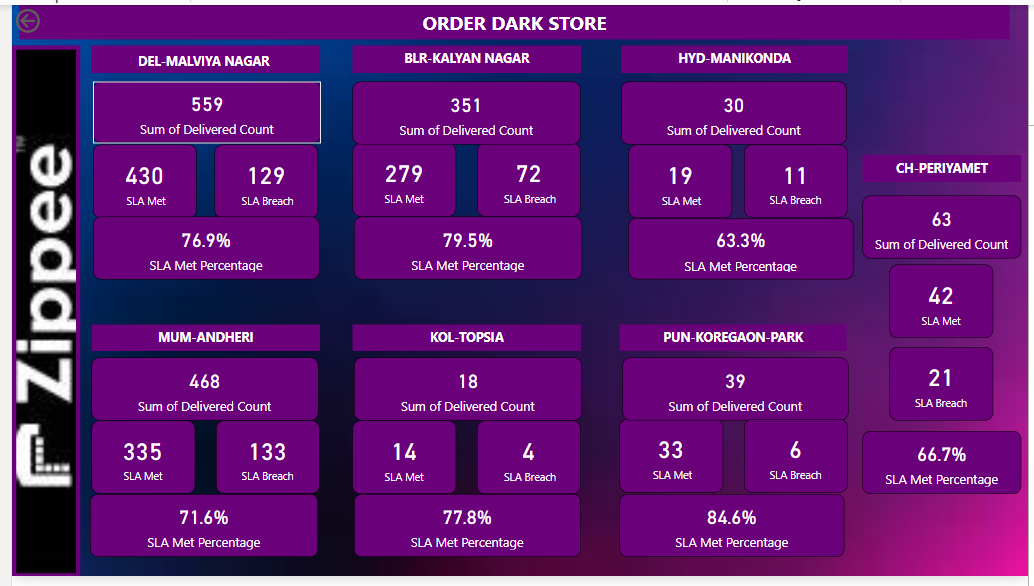

The page's visual inventory and layout, read from the dashboard file:
{"tool":"powerbi","page":{"name":"ZIPPEE SLA","canvas":[1280,720],"ordinal":0},"visuals":[{"type":"image","box":[0,0,56.7,721.9],"z":0},{"type":"textbox","title":"DARK STORE DATA","box":[19.1,0,1231.1,31.8],"z":1000},{"type":"textbox","title":"DEL-MALVIYA NAGAR","box":[98.3,32.1,287.2,35.9],"z":2000},{"type":"card","fields":{"Values":["Sum(SLA MET.Delivered Count)"]},"box":[105.7,69.8,273.6,88.7],"z":3000},{"type":"textbox","title":"BLR- KALYAN NAGAR","box":[448.1,36.5,284.6,34.6],"z":4000},{"type":"textbox","title":"HYD- MANIKONDA","box":[85,360.9,287.2,35.9],"z":5000},{"type":"textbox","title":"KOL- TOPSIA","box":[453.8,375,284.6,34.6],"z":6000},{"type":"textbox","title":"MUM- ANDHERI","box":[778.6,362.8,287.2,35.9],"z":7000},{"type":"textbox","title":"PUN-KOREGAON PARK","box":[769.2,32.7,286.5,34.6],"z":8000},{"type":"card","fields":{"Values":["Sum(SLA MET.Delivered Count)"]},"box":[449.1,69.8,273.6,86.8],"z":9000},{"type":"card","fields":{"Values":["Sum(SLA MET.Delivered Count)"]},"box":[778.8,67.3,273.1,86.5],"z":10000},{"type":"card","fields":{"Values":["Sum(SLA MET.Delivered Count)"]},"box":[778.8,398.1,284.6,84.6],"z":11000},{"type":"card","fields":{"Values":["Sum(SLA MET.Delivered Count)"]},"box":[462.3,415.1,269.8,84.9],"z":12000},{"type":"card","fields":{"Values":["Sum(SLA MET.Delivered Count)"]},"box":[88.5,400,280.8,84.6],"z":13000},{"type":"card","fields":{"Values":["Sum(SLA MET.SLA Met)"]},"box":[105,168,131.8,80.2],"z":14000},{"type":"card","fields":{"Values":["Sum(SLA MET.SLA Met)"]},"box":[448.1,171.2,130.8,92.3],"z":15000},{"type":"card","fields":{"Values":["Sum(SLA MET.SLA Met)"]},"box":[88.7,492.5,130.2,92.5],"z":16000},{"type":"card","fields":{"Values":["Sum(SLA MET.SLA Met)"]},"box":[461.5,500,130.8,92.3],"z":17000},{"type":"card","fields":{"Values":["Sum(SLA MET.SLA Met)"]},"box":[777.4,494.4,130.2,92.5],"z":18000},{"type":"card","fields":{"Values":["Sum(SLA MET.SLA Met)"]},"box":[777.4,162.3,130.2,92.5],"z":19000},{"type":"card","fields":{"Values":["Sum(SLA MET.SLA Breach)"]},"box":[249.7,165.4,128.8,81.1],"z":20000},{"type":"card","fields":{"Values":["Sum(SLA MET.SLA Breach)"]},"box":[590.4,171.2,130.8,92.3],"z":21000},{"type":"card","fields":{"Values":["Sum(SLA MET.SLA Breach)"]},"box":[236.5,492.3,130.8,92.3],"z":22000},{"type":"card","fields":{"Values":["Sum(SLA MET.SLA Breach)"]},"box":[603.8,500,128.8,92.3],"z":23000},{"type":"card","fields":{"Values":["Sum(SLA MET.SLA Breach)"]},"box":[926.9,494.2,128.8,92.3],"z":24000},{"type":"card","fields":{"Values":["Sum(SLA MET.SLA Breach)"]},"box":[923.1,167.3,128.8,92.3],"z":25000},{"type":"card","fields":{"Values":["Sum(SLA MET.SLA MET Percentage)"]},"box":[97.4,259.7,275,82.1],"z":26000},{"type":"card","fields":{"Values":["Sum(SLA MET.SLA MET Percentage)"]},"box":[448.1,271.2,273.1,84.6],"z":27000},{"type":"card","fields":{"Values":["Sum(SLA MET.SLA MET Percentage)"]},"box":[84.6,592.3,288.5,84.6],"z":28000},{"type":"card","fields":{"Values":["Sum(SLA MET.SLA MET Percentage)"]},"box":[457.7,603.8,276.9,84.6],"z":29000},{"type":"card","fields":{"Values":["Sum(SLA MET.SLA MET Percentage)"]},"box":[778.8,603.8,259.6,84.6],"z":30000},{"type":"card","fields":{"Values":["Sum(SLA MET.SLA MET Percentage)"]},"box":[771.2,271.2,284.6,82.7],"z":31000},{"type":"textbox","title":"MUM- ANDHERI","box":[1065.4,153.8,205.8,59.6],"z":32000},{"type":"card","fields":{"Values":["Sum(SLA MET.Delivered Count)"]},"box":[1068,222.7,205.7,98.1],"z":33000},{"type":"card","fields":{"Values":["Sum(SLA MET.SLA Met)"]},"box":[1107.7,348.1,128.8,92.3],"z":34000},{"type":"card","fields":{"Values":["Sum(SLA MET.SLA Breach)"]},"box":[1107.7,445.3,130.2,92.5],"z":35000},{"type":"card","fields":{"Values":["Sum(SLA MET.SLA MET Percentage)"]},"box":[1068,552.9,205.7,81.1],"z":36000}]}

Visuals, with their boxes in screenshot pixels (x1, y1, x2, y2), scaled from the page's 1280x720 canvas onto the 1034x586 screenshot:
image: <region>0, 0, 46, 585</region>
"DARK STORE DATA" textbox: <region>15, 0, 1010, 26</region>
"DEL-MALVIYA NAGAR" textbox: <region>79, 26, 311, 55</region>
card - Sum(SLA MET.Delivered Count): <region>85, 57, 306, 129</region>
"BLR- KALYAN NAGAR" textbox: <region>362, 30, 592, 58</region>
"HYD- MANIKONDA" textbox: <region>69, 294, 301, 323</region>
"KOL- TOPSIA" textbox: <region>367, 305, 596, 333</region>
"MUM- ANDHERI" textbox: <region>629, 295, 861, 324</region>
"PUN-KOREGAON PARK" textbox: <region>621, 27, 853, 55</region>
card - Sum(SLA MET.Delivered Count): <region>363, 57, 584, 127</region>
card - Sum(SLA MET.Delivered Count): <region>629, 55, 850, 125</region>
card - Sum(SLA MET.Delivered Count): <region>629, 324, 859, 393</region>
card - Sum(SLA MET.Delivered Count): <region>373, 338, 591, 407</region>
card - Sum(SLA MET.Delivered Count): <region>71, 326, 298, 394</region>
card - Sum(SLA MET.SLA Met): <region>85, 137, 191, 202</region>
card - Sum(SLA MET.SLA Met): <region>362, 139, 468, 214</region>
card - Sum(SLA MET.SLA Met): <region>72, 401, 177, 476</region>
card - Sum(SLA MET.SLA Met): <region>373, 407, 478, 482</region>
card - Sum(SLA MET.SLA Met): <region>628, 402, 733, 478</region>
card - Sum(SLA MET.SLA Met): <region>628, 132, 733, 207</region>
card - Sum(SLA MET.SLA Breach): <region>202, 135, 306, 201</region>
card - Sum(SLA MET.SLA Breach): <region>477, 139, 583, 214</region>
card - Sum(SLA MET.SLA Breach): <region>191, 401, 297, 476</region>
card - Sum(SLA MET.SLA Breach): <region>488, 407, 592, 482</region>
card - Sum(SLA MET.SLA Breach): <region>749, 402, 853, 477</region>
card - Sum(SLA MET.SLA Breach): <region>746, 136, 850, 211</region>
card - Sum(SLA MET.SLA MET Percentage): <region>79, 211, 301, 278</region>
card - Sum(SLA MET.SLA MET Percentage): <region>362, 221, 583, 290</region>
card - Sum(SLA MET.SLA MET Percentage): <region>68, 482, 301, 551</region>
card - Sum(SLA MET.SLA MET Percentage): <region>370, 491, 593, 560</region>
card - Sum(SLA MET.SLA MET Percentage): <region>629, 491, 839, 560</region>
card - Sum(SLA MET.SLA MET Percentage): <region>623, 221, 853, 288</region>
"MUM- ANDHERI" textbox: <region>861, 125, 1027, 174</region>
card - Sum(SLA MET.Delivered Count): <region>863, 181, 1029, 261</region>
card - Sum(SLA MET.SLA Met): <region>895, 283, 999, 358</region>
card - Sum(SLA MET.SLA Breach): <region>895, 362, 1000, 438</region>
card - Sum(SLA MET.SLA MET Percentage): <region>863, 450, 1029, 516</region>
